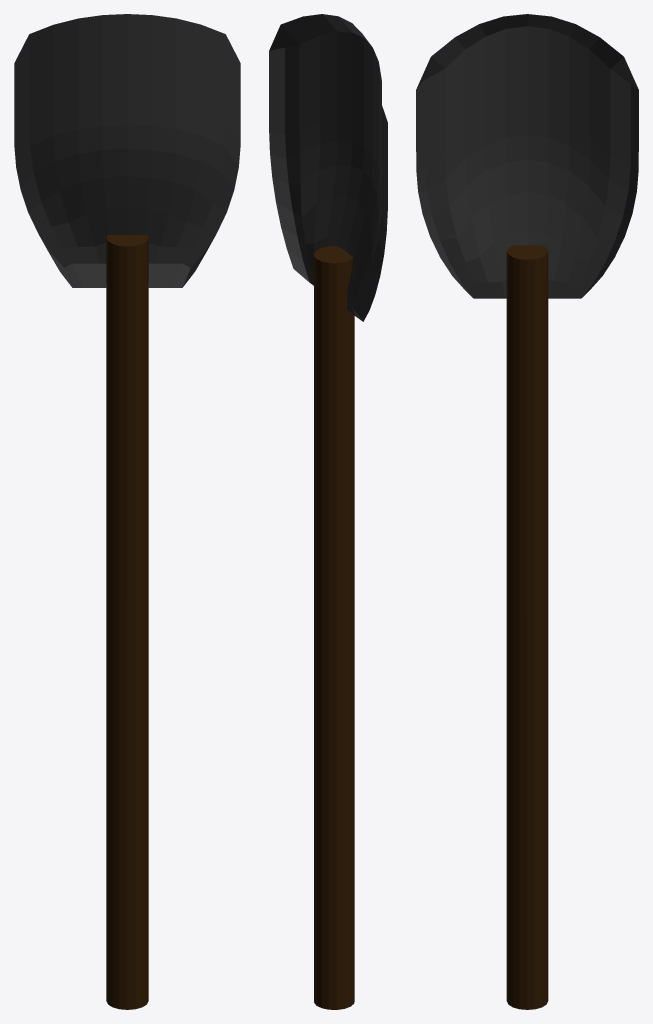
The model's file is Shovel.fbx.
3 renders of one model, left to right at view 1: azimuth 90°, elevation 25°; view 2: azimuth 210°, elevation 25°; view 3: azimuth 270°, elevation 25°, orthographic. The views are drawn at different scales.
Visible parts, largest first — view 1: Grid, Cylinder; view 2: Cylinder, Grid; view 3: Grid, Cylinder.
Boxes of the visible parts, left/top/right/bottom form: Grid: left=14, top=14, right=240, bottom=287; Cylinder: left=106, top=234, right=148, bottom=1009; Cylinder: left=314, top=246, right=354, bottom=1009; Grid: left=269, top=14, right=387, bottom=321; Grid: left=416, top=14, right=638, bottom=298; Cylinder: left=506, top=245, right=548, bottom=1009.
Size of the model in its own units: 13.35 by 261 by 53.81.
